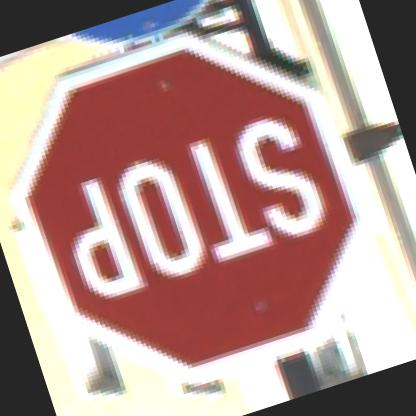stop: (0, 0, 397, 415)
